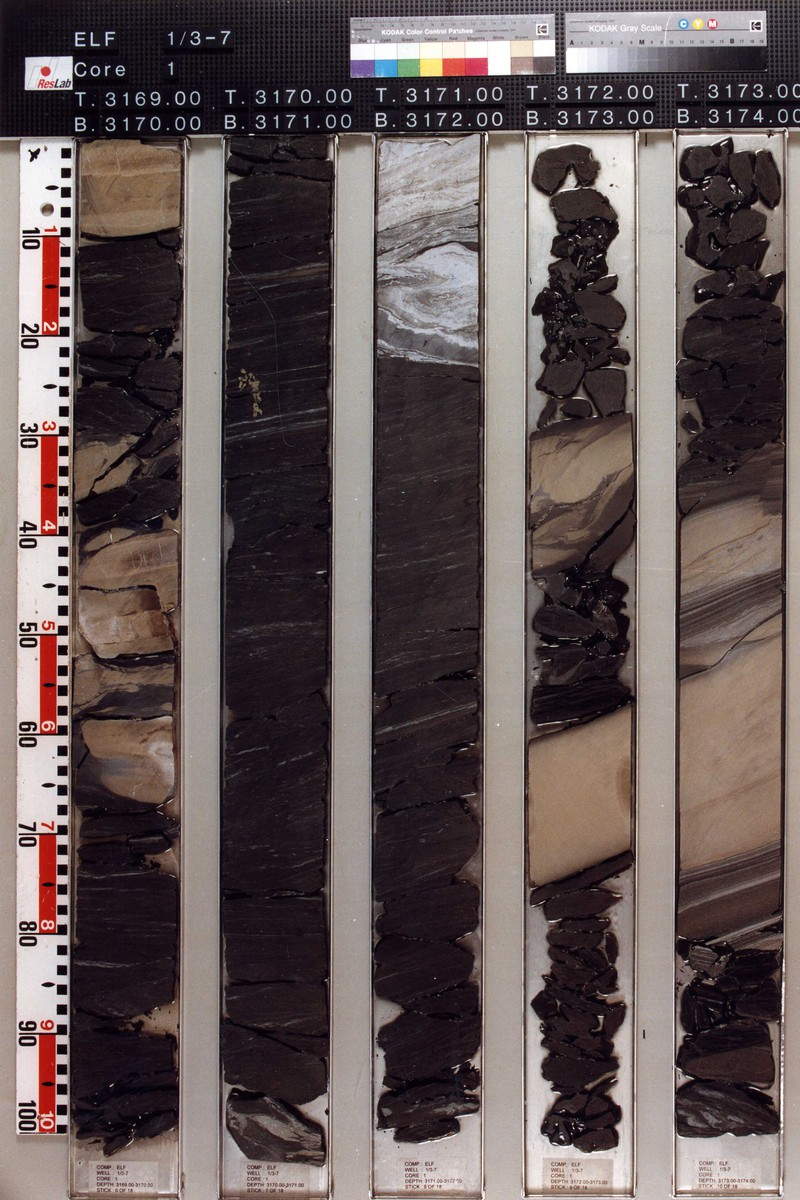core: (220, 140, 337, 1171), (370, 140, 488, 1151), (71, 142, 188, 1161), (671, 130, 788, 1142), (524, 134, 636, 1163)
